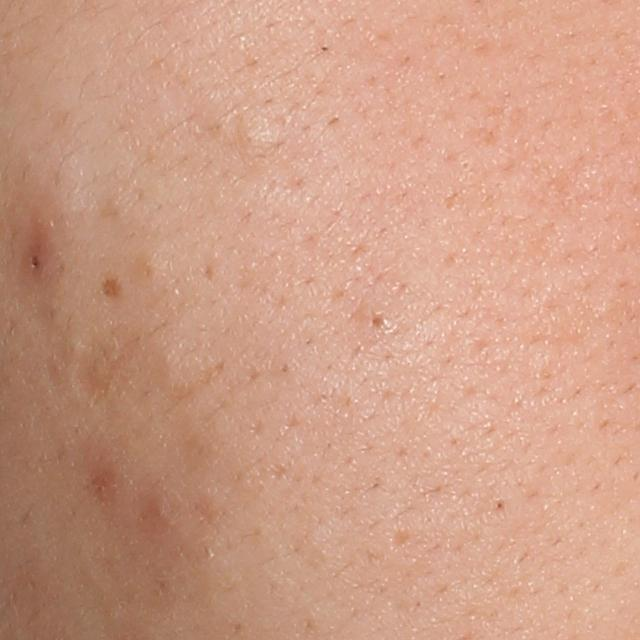comedo: (234, 110, 282, 160), (492, 500, 505, 514)
nevus: (96, 275, 122, 303)
